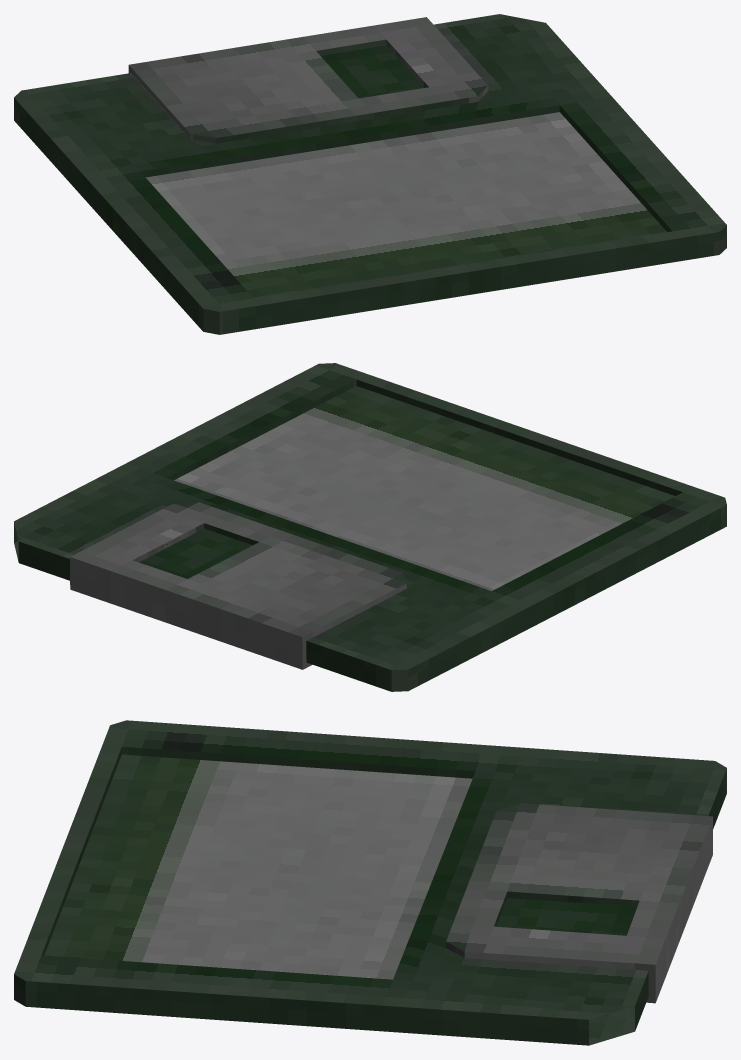
Rendered from floppy_disc_3.dae.
3 renders of one model, top to bottom at view 1: azimuth 30°, elevation 25°; view 2: azimuth 150°, elevation 25°; view 3: azimuth 270°, elevation 25°, orthographic. The views are drawn at different scales.
Parts seen in each view (by area): view 1: floppy_disc_3; view 2: floppy_disc_3; view 3: floppy_disc_3.
Boxes of the visible parts, <box> form: floppy_disc_3: <box>14,14,726,334</box>; floppy_disc_3: <box>14,363,726,691</box>; floppy_disc_3: <box>14,720,726,1045</box>.
Size of the model in its own units: 0.1796 by 0.1807 by 0.0108.
1 material, 1 textured.
